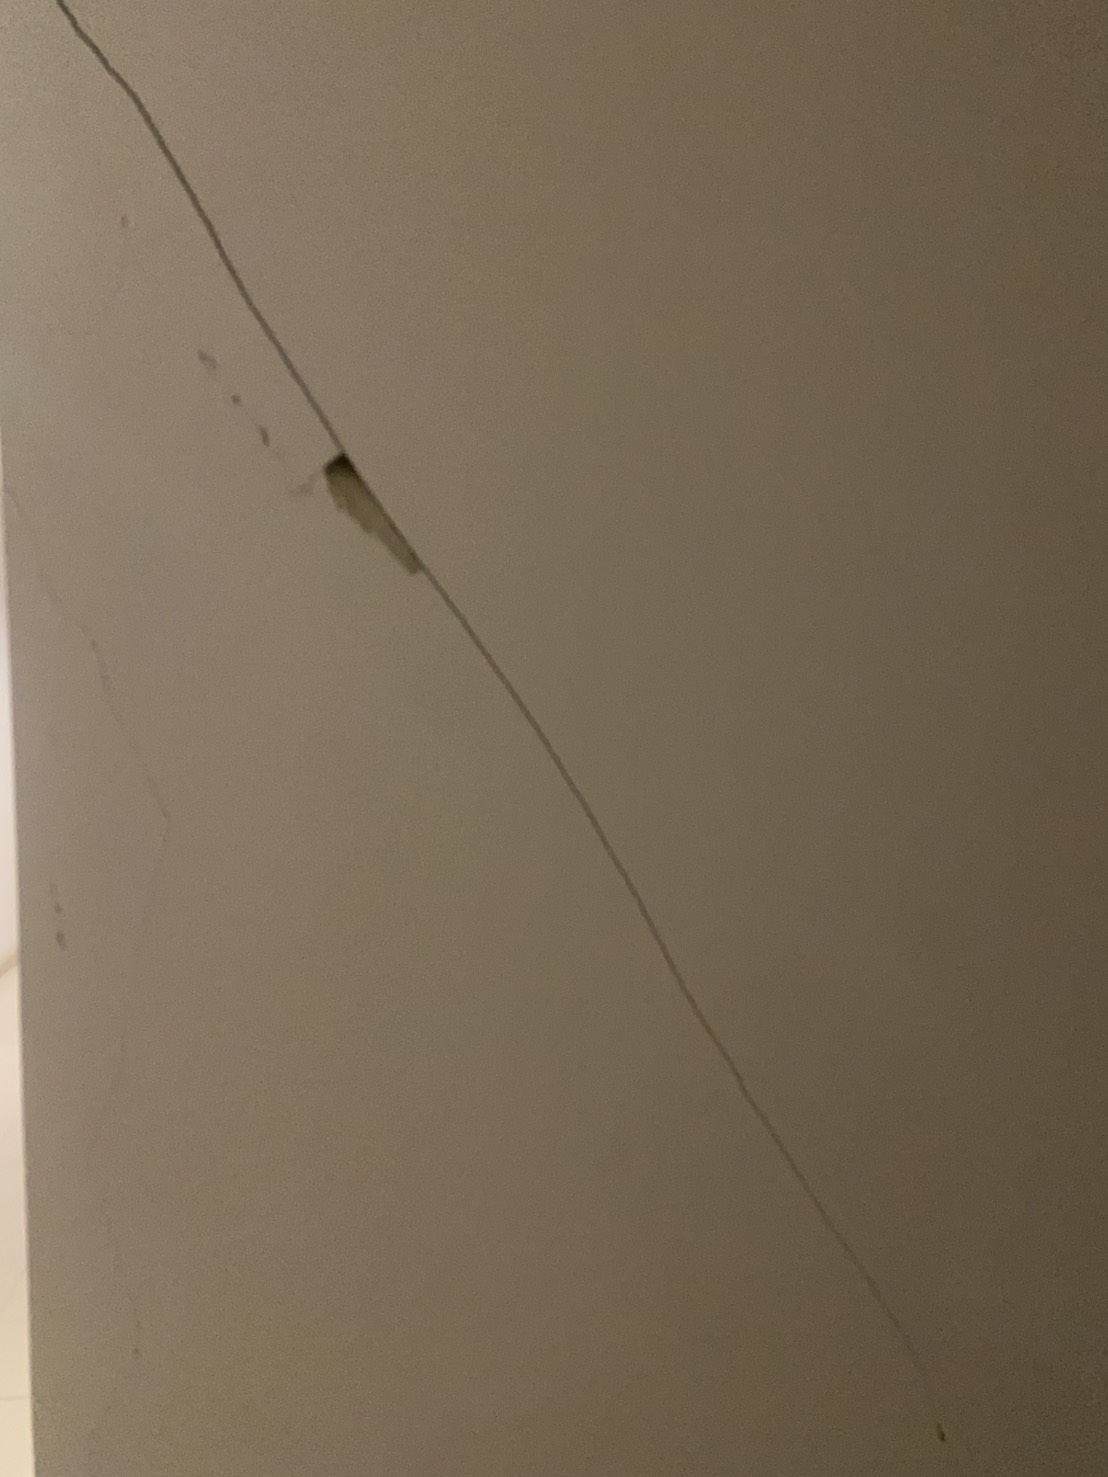Medium: (69, 33, 772, 1032)
